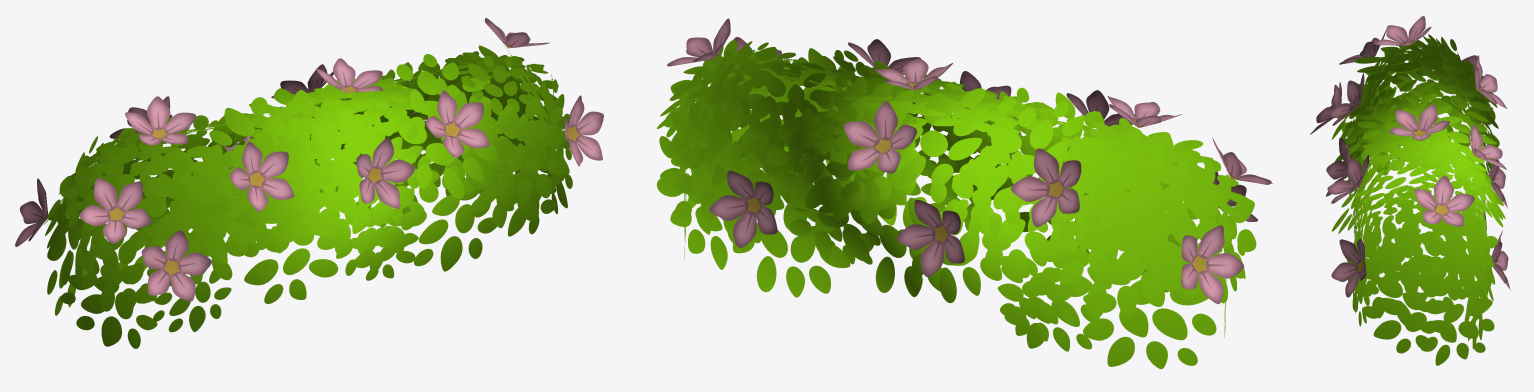
File: Bush_Small_Flowers.glb
3 views of the same model, side by side, from view 1: azimuth 30°, elevation 25°; view 2: azimuth 150°, elevation 25°; view 3: azimuth 270°, elevation 25° (orthographic). The views are drawn at different scales.
Parts seen in each view (by area): view 1: Bush_Small_Flowers; view 2: Bush_Small_Flowers; view 3: Bush_Small_Flowers.
Boxes of the visible parts, box(x1,y1,x2,y2) form: Bush_Small_Flowers: box(15, 18, 603, 348); Bush_Small_Flowers: box(657, 18, 1272, 368); Bush_Small_Flowers: box(1310, 16, 1510, 365).
Bounding box in the file's own units: 1.93 × 0.8168 × 0.7618.
2 materials, 2 textured.
